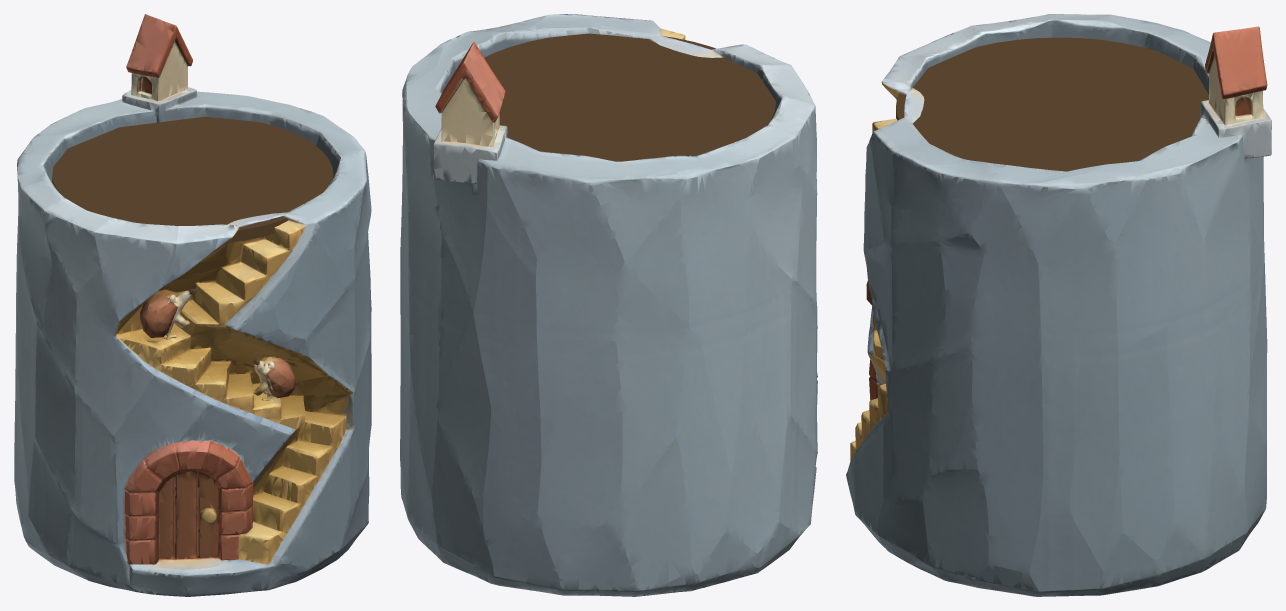
Rendered from hedgehog-pot.glb.
3 renders of one model, left to right at view 1: azimuth 30°, elevation 25°; view 2: azimuth 150°, elevation 25°; view 3: azimuth 270°, elevation 25°, orthographic. The views are drawn at different scales.
Visible parts, largest first — view 1: hedgehog-pot; view 2: hedgehog-pot; view 3: hedgehog-pot.
Part boxes in pixels (<box>): hedgehog-pot: <box>14,14,371,596</box>; hedgehog-pot: <box>400,14,817,596</box>; hedgehog-pot: <box>846,14,1271,596</box>.
Bounding box in the file's own units: 0.7402 × 1 × 0.7572.
Materials: 2 (1 with a texture image).
